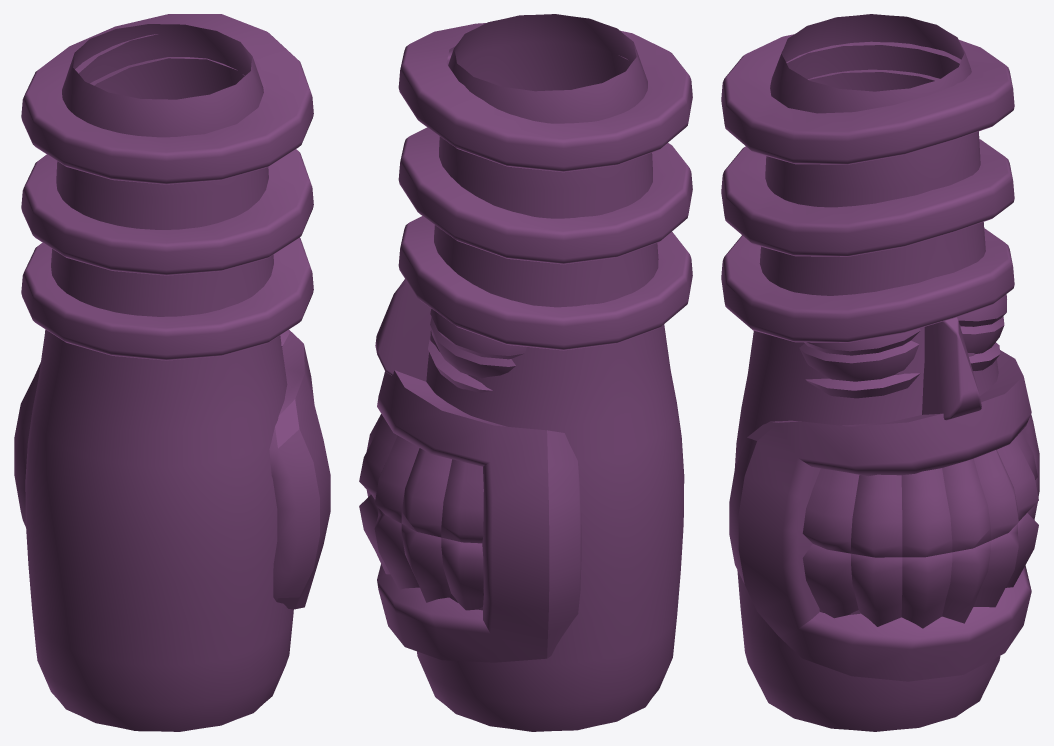
File: Tiki_Entrance.fbx
3 renders of one model, left to right at view 1: azimuth 30°, elevation 25°; view 2: azimuth 150°, elevation 25°; view 3: azimuth 270°, elevation 25°, orthographic.
Visible parts, largest first — view 1: polySurface122, polySurface132, polySurface131, polySurface125, polySurface123; view 2: polySurface122, polySurface123, polySurface132, polySurface124, polySurface131, polySurface125, polySurface128, polySurface121; view 3: polySurface122, polySurface123, polySurface124, polySurface132, polySurface131, polySurface125, polySurface130, polySurface121, polySurface128.
Part boxes in pixels (left/top/right/bottom): polySurface122: left=25, top=24, right=293, bottom=731; polySurface132: left=21, top=14, right=313, bottom=184; polySurface131: left=21, top=149, right=313, bottom=275; polySurface125: left=21, top=237, right=313, bottom=360; polySurface123: left=14, top=330, right=330, bottom=609; polySurface122: left=417, top=14, right=684, bottom=731; polySurface123: left=377, top=370, right=581, bottom=662; polySurface132: left=398, top=23, right=692, bottom=172; polySurface124: left=359, top=414, right=483, bottom=610; polySurface131: left=398, top=127, right=692, bottom=264; polySurface125: left=398, top=216, right=692, bottom=350; polySurface128: left=428, top=308, right=526, bottom=393; polySurface121: left=375, top=279, right=431, bottom=381; polySurface122: left=734, top=14, right=1000, bottom=731; polySurface123: left=729, top=350, right=1039, bottom=681; polySurface124: left=802, top=431, right=1038, bottom=628; polySurface132: left=721, top=34, right=1014, bottom=164; polySurface131: left=721, top=139, right=1014, bottom=256; polySurface125: left=721, top=228, right=1014, bottom=342; polySurface130: left=799, top=328, right=920, bottom=398; polySurface121: left=922, top=317, right=981, bottom=420; polySurface128: left=957, top=294, right=1006, bottom=370.
Size of the model in its own units: 4.22 by 9.16 by 4.19.
